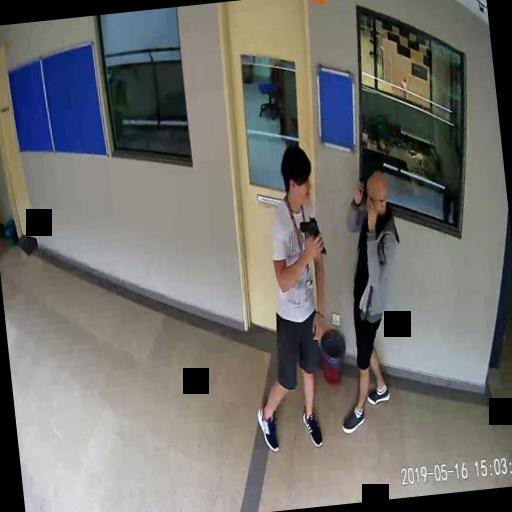Handgun: (298, 215, 325, 255)
